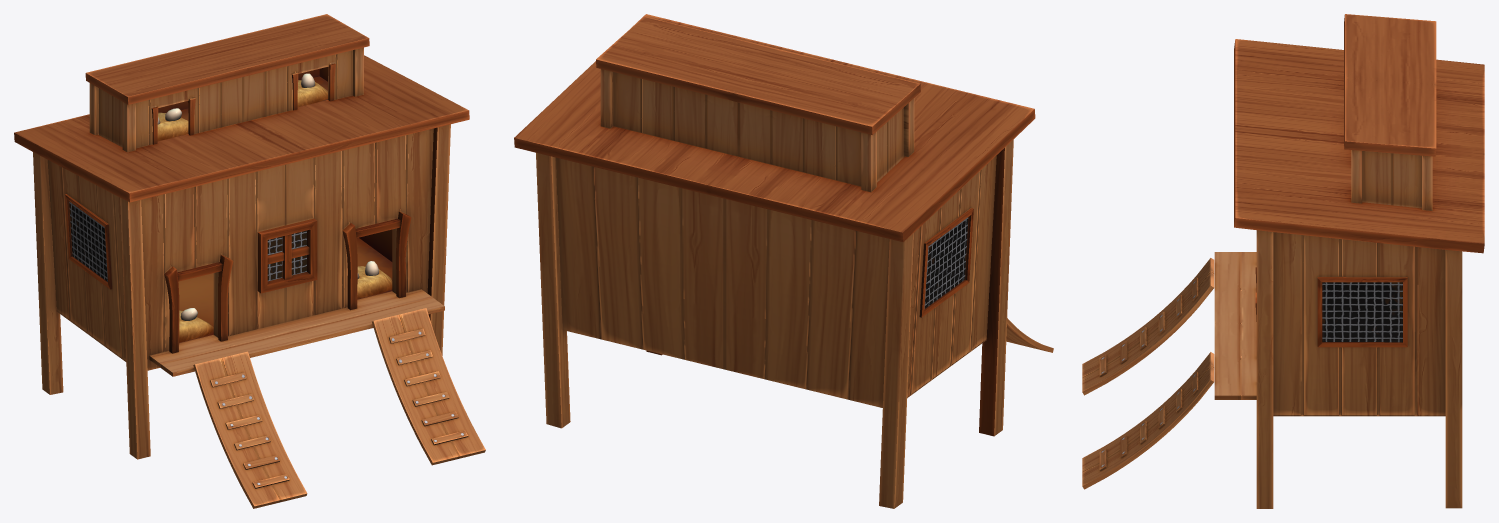
The model's file is ChickenHouse02.FBX.
3 views of the same model, side by side, from view 1: azimuth 30°, elevation 25°; view 2: azimuth 150°, elevation 25°; view 3: azimuth 270°, elevation 25° (orthographic). The views are drawn at different scales.
Visible parts, largest first — view 1: ChickenHouse02; view 2: ChickenHouse02; view 3: ChickenHouse02.
Part boxes in pixels (x1,y1,x2,y2): ChickenHouse02: [14, 14, 485, 508]; ChickenHouse02: [514, 14, 1053, 508]; ChickenHouse02: [1082, 14, 1484, 508].
Size of what is drawn, in the model's own units: 2.43 by 2.22 by 2.31.
